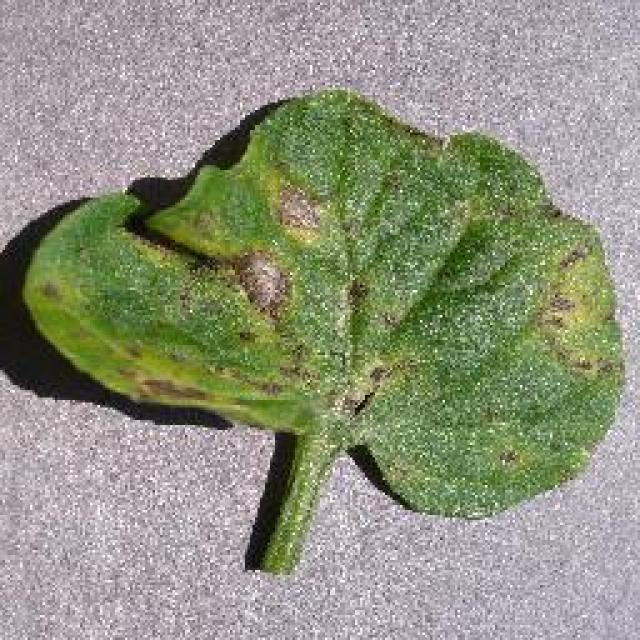Tomato target spot leaf: (20, 85, 630, 525)
